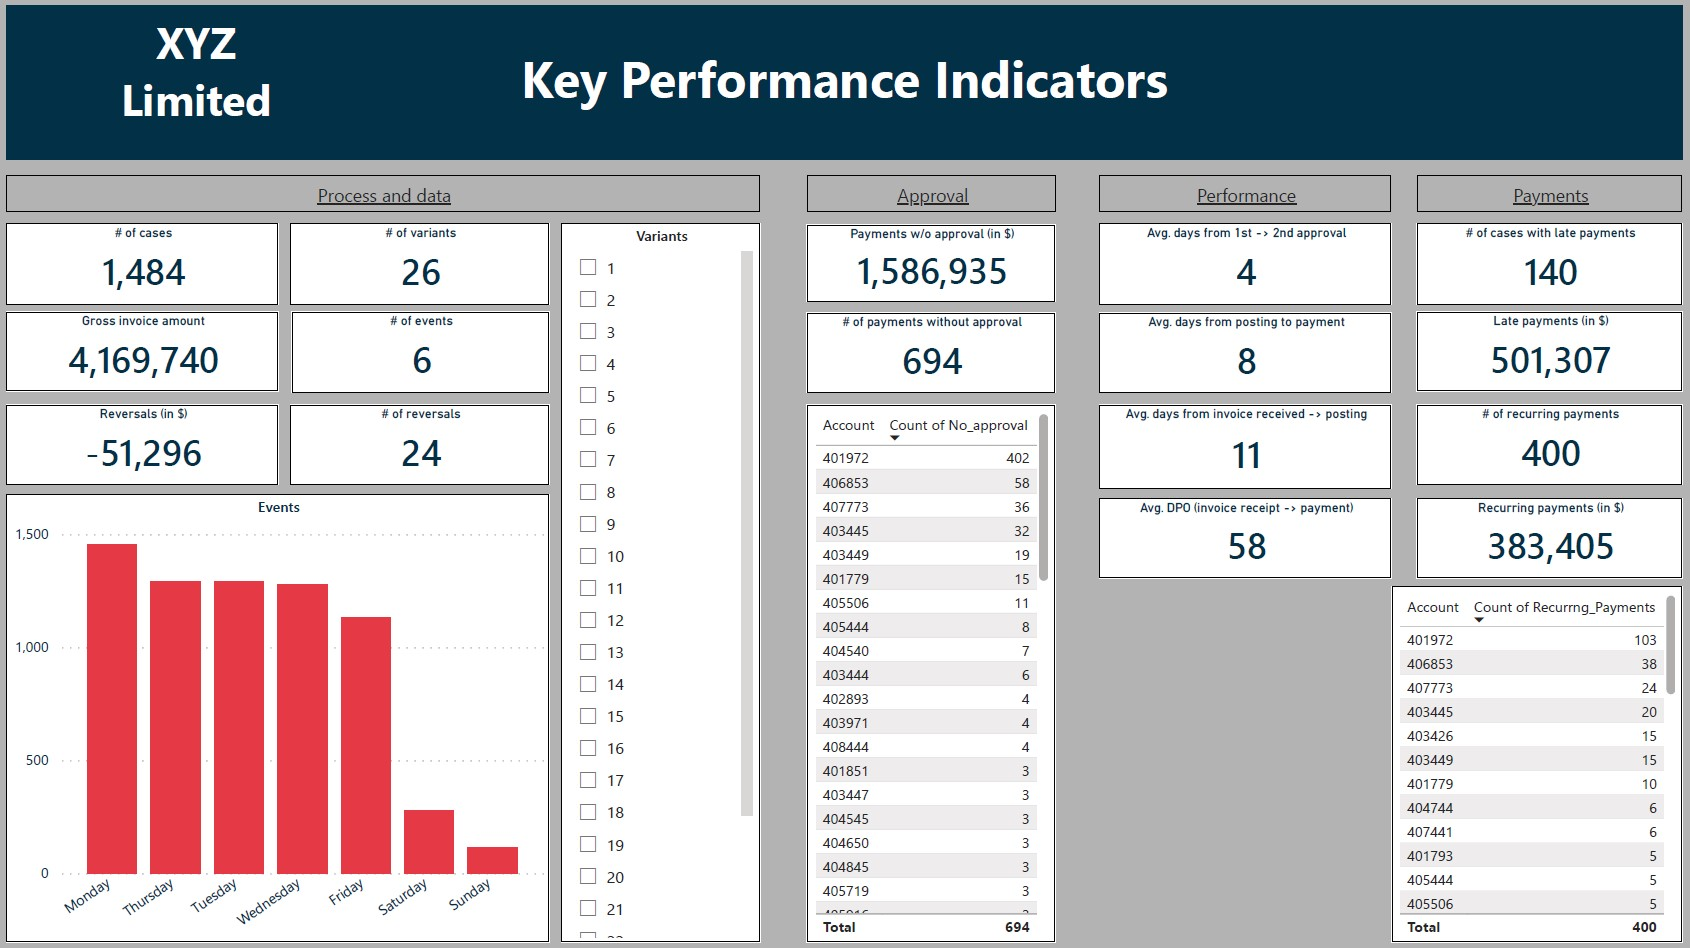

The dashboard page shown, as its layout file describes it:
{"tool":"powerbi","page":{"name":"Key Performance Indicators","canvas":[1280,720],"ordinal":1},"visuals":[{"type":"shape","box":[11.7,10.7,1256.7,115.7],"z":0},{"type":"textbox","box":[20.4,10.7,268.2,107.9],"z":1000},{"type":"textbox","box":[379,35,521.9,67.1],"z":2000},{"type":"card","title":"# of reversals","fields":{"Values":["CountNonNull(Distinct_log.Comment)"]},"box":[225.5,310,193.4,60.3],"z":3000},{"type":"card","title":"Avg. days from invoice received -> posting","fields":{"Values":["Avg(Event_duration.InvRec_PosDte)"]},"box":[831,310,218.7,63.2],"z":4000},{"type":"card","title":"Avg. days from posting to payment","fields":{"Values":["Avg(Event_duration.Post_Paymt)"]},"box":[831,241,218.7,60.3],"z":5000},{"type":"card","title":"Payments w/o approval (in $)","fields":{"Values":["Sum(Distinct_log.Gross AMount Pos)"]},"box":[612.3,174.6,185.6,58.3],"z":6000},{"type":"card","title":"# of payments without approval","fields":{"Values":["CountNonNull(Event_duration.No_approval)"]},"box":[612.2,241.1,186.2,60.3],"z":7000},{"type":"card","title":"# of cases with late payments","fields":{"Values":["CountNonNull(Event_duration.Inv_Rec_Paymt)"]},"box":[1069.1,174,199.2,61.2],"z":8000},{"type":"card","title":"Avg. DPO (invoice receipt -> payment)","fields":{"Values":["Avg(Event_duration.Inv_Rec_Paymt)"]},"box":[831,380,218.7,60.3],"z":9000},{"type":"card","title":"Avg. days from 1st -> 2nd approval","fields":{"Values":["Avg(Event_duration.1st_2nd_App)"]},"box":[831,174,218.7,61.2],"z":10000},{"type":"tableEx","fields":{"Values":["Distinct_log.Account","CountNonNull(Event_duration.No_approval)"]},"box":[612.3,310,185.6,403.3],"z":11000},{"type":"card","title":"Late payments (in $)","fields":{"Values":["Sum(Distinct_log.Gross AMount Pos)"]},"box":[1069.1,240.1,199.2,60.3],"z":12000},{"type":"card","title":"Reversals (in $)","fields":{"Values":["Sum(Distinct_log.Gross AMount Pos)"]},"box":[11.7,310,204.1,60.3],"z":13000},{"type":"clusteredColumnChart","title":"Events","fields":{"Category":["P2P_Final.Day of week"],"Y":["CountNonNull(P2P_Final.Document No.)"]},"box":[11.7,377.1,407.2,336.3],"z":14000},{"type":"card","title":"# of cases","fields":{"Values":["CountNonNull(Distinct_log.Document No.)"]},"box":[11.7,174,204.1,61.2],"z":15000},{"type":"card","title":"# of variants","fields":{"Values":["Count(Distinct_log.Variants)"]},"box":[225.5,174,193.4,61.2],"z":16000},{"type":"textbox","box":[831,138,218.7,28.2],"z":17000},{"type":"slicer","title":"Variants","fields":{"Values":["Distinct_log.Variants"]},"box":[427.6,174,149.7,539.4],"z":18000},{"type":"textbox","box":[612.3,138,186.6,28.2],"z":19000},{"type":"textbox","box":[1069.1,138,199.2,28.2],"z":20000},{"type":"textbox","box":[11.7,138,565.6,28.2],"z":22000},{"type":"card","title":"Gross invoice amount","fields":{"Values":["Sum(Distinct_log.Gross AMount Pos)"]},"box":[11.7,240.1,204.1,60.3],"z":23000},{"type":"card","title":"Recurring payments (in $)","fields":{"Values":["Sum(Distinct_log.Gross AMount Pos)"]},"box":[1069.1,380.2,199.2,60.3],"z":24000},{"type":"card","title":"# of recurring payments","fields":{"Values":["CountNonNull(Distinct_log.Recurrng_Payments)"]},"box":[1069.1,310,199.2,60.3],"z":25000},{"type":"card","title":"# of events","fields":{"Values":["Count(P2P_Final.Events)"]},"box":[225.8,240.5,193.1,60.3],"z":25001},{"type":"tableEx","fields":{"Values":["Distinct_log.Account","CountNonNull(Distinct_log.Recurrng_Payments)"]},"box":[1049.7,446.1,218.7,267.3],"z":25002}]}

Visuals, with their boxes in screenshot pixels (x1, y1, x2, y2), scaled from the page's 1280x720 canvas onto the 1690x948 screenshot:
shape: bbox=[15, 14, 1675, 166]
textbox: bbox=[27, 14, 381, 156]
textbox: bbox=[500, 46, 1189, 134]
"# of reversals" card: bbox=[298, 408, 553, 488]
"Avg. days from invoice received -> posting" card: bbox=[1097, 408, 1386, 491]
"Avg. days from posting to payment" card: bbox=[1097, 317, 1386, 397]
"Payments w/o approval (in $)" card: bbox=[808, 230, 1053, 307]
"# of payments without approval" card: bbox=[808, 317, 1054, 397]
"# of cases with late payments" card: bbox=[1412, 229, 1675, 310]
"Avg. DPO (invoice receipt -> payment)" card: bbox=[1097, 500, 1386, 580]
"Avg. days from 1st -> 2nd approval" card: bbox=[1097, 229, 1386, 310]
tableEx - Distinct_log.Account x CountNonNull(Event_duration.No_approval): bbox=[808, 408, 1053, 939]
"Late payments (in $)" card: bbox=[1412, 316, 1675, 396]
"Reversals (in $)" card: bbox=[15, 408, 285, 488]
"Events" clusteredColumnChart: bbox=[15, 497, 553, 939]
"# of cases" card: bbox=[15, 229, 285, 310]
"# of variants" card: bbox=[298, 229, 553, 310]
textbox: bbox=[1097, 182, 1386, 219]
"Variants" slicer: bbox=[565, 229, 762, 939]
textbox: bbox=[808, 182, 1055, 219]
textbox: bbox=[1412, 182, 1675, 219]
textbox: bbox=[15, 182, 762, 219]
"Gross invoice amount" card: bbox=[15, 316, 285, 396]
"Recurring payments (in $)" card: bbox=[1412, 501, 1675, 580]
"# of recurring payments" card: bbox=[1412, 408, 1675, 488]
"# of events" card: bbox=[298, 317, 553, 396]
tableEx - Distinct_log.Account x CountNonNull(Distinct_log.Recurrng_Payments): bbox=[1386, 587, 1675, 939]
